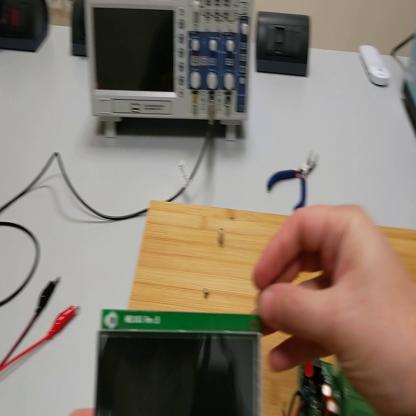hand: (254, 206, 416, 415), (72, 405, 95, 415)
low voltage board: (287, 357, 379, 413)
oscilloscope: (87, 2, 255, 144)
pliers: (266, 150, 321, 210)
socket: (1, 1, 52, 57), (71, 2, 87, 54)
welder base: (402, 37, 415, 134)
working area: (129, 202, 414, 415)
